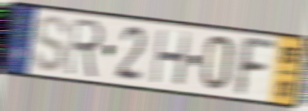0: (199, 33, 236, 93)
2: (113, 24, 149, 83)
F: (235, 34, 278, 99)
H: (149, 27, 193, 89)
R: (64, 16, 107, 81)
S: (31, 13, 72, 75)
